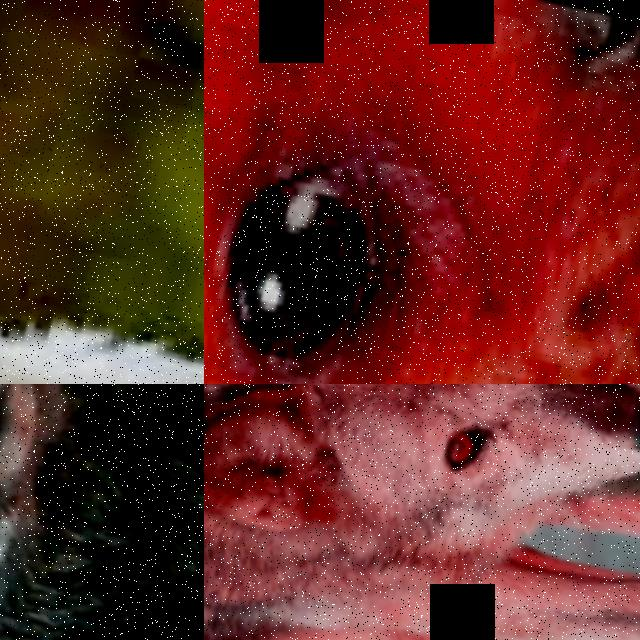dog: (204, 0, 640, 384), (0, 186, 204, 384)
wolf: (204, 384, 640, 640), (0, 384, 204, 640)
